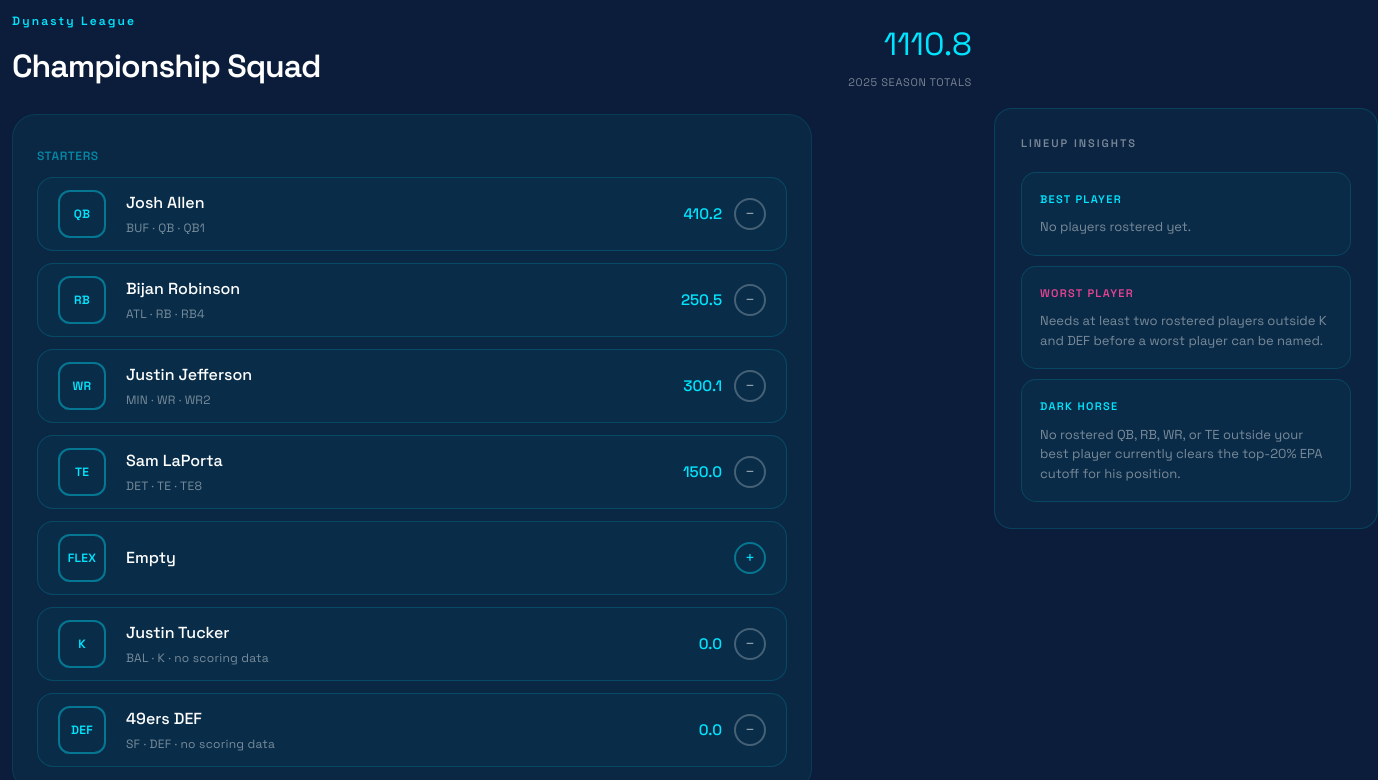
it: ViewLineupPanel › removes a starter player via the remove button, sending a JSON body to DELETE /remove-player and reloading the lineup
Expected: the text "Justin Jefferson" is shown, [126,364,252,385]
Click the button named "Remove player from WR". click: (750, 386)
box: [734,370,766,402]
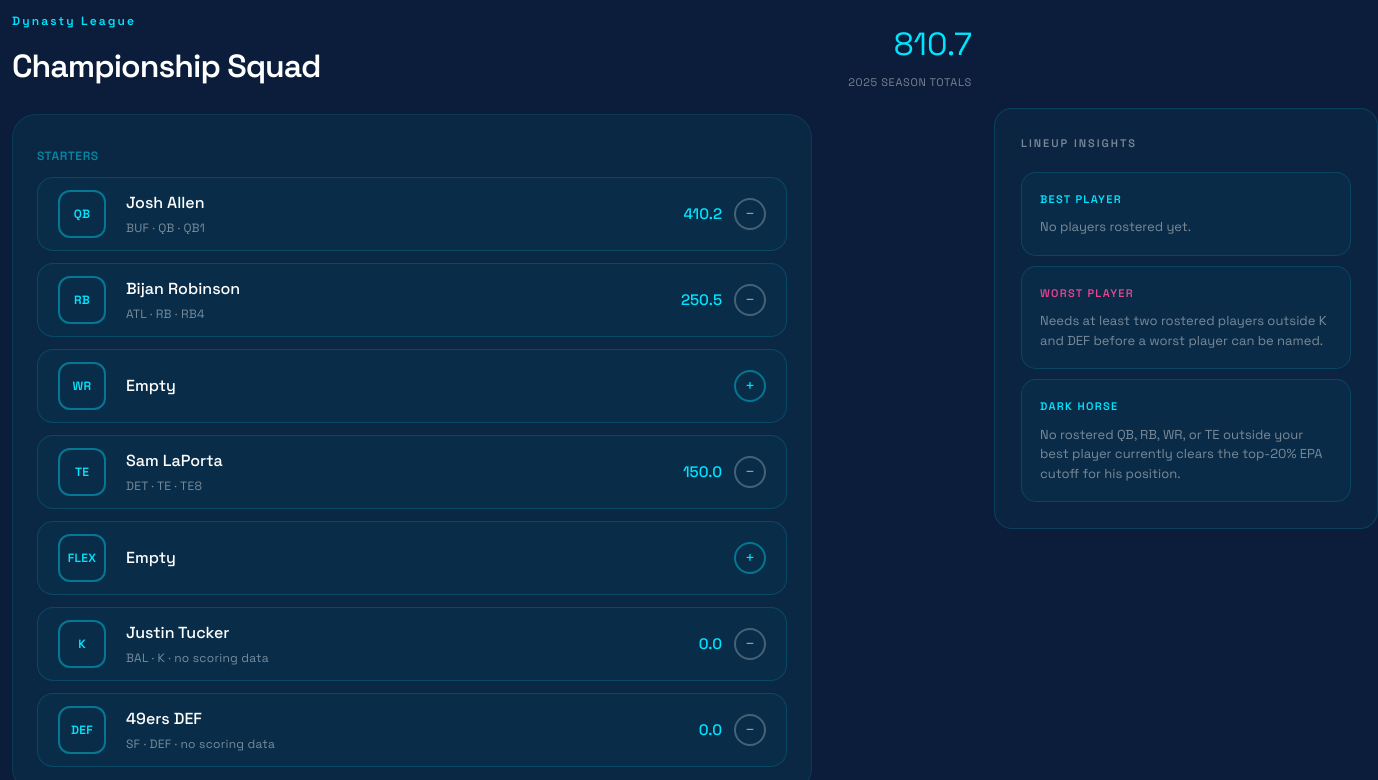
Expected: the button "Justin Jefferson" is gone
Expected: the button named "Add player to WR" is shown, [734,370,766,402]
